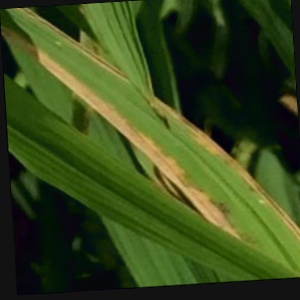Leaf_Blast: (156, 96, 244, 241)
